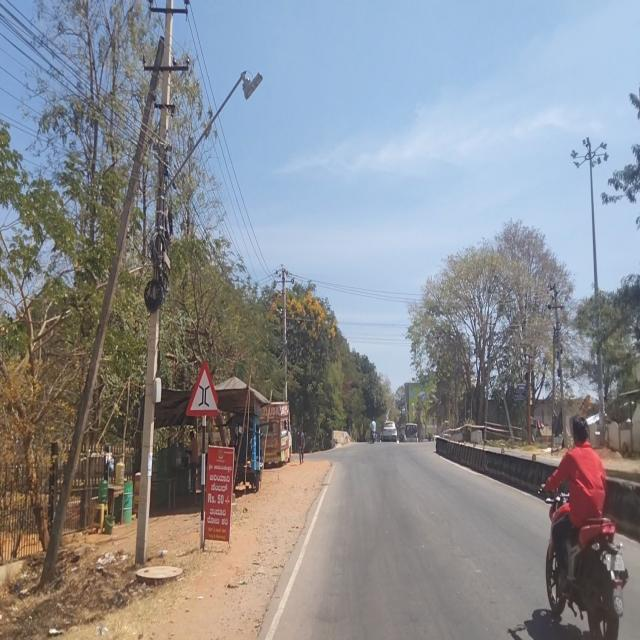bien_cam: (185, 360, 219, 418)
